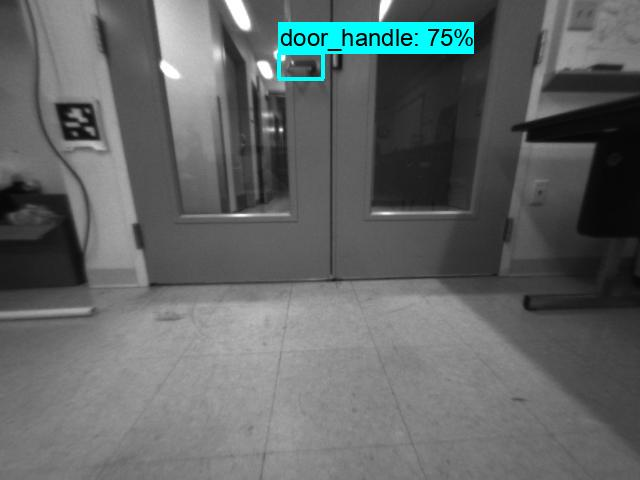door_handle: (281, 56, 321, 78)
